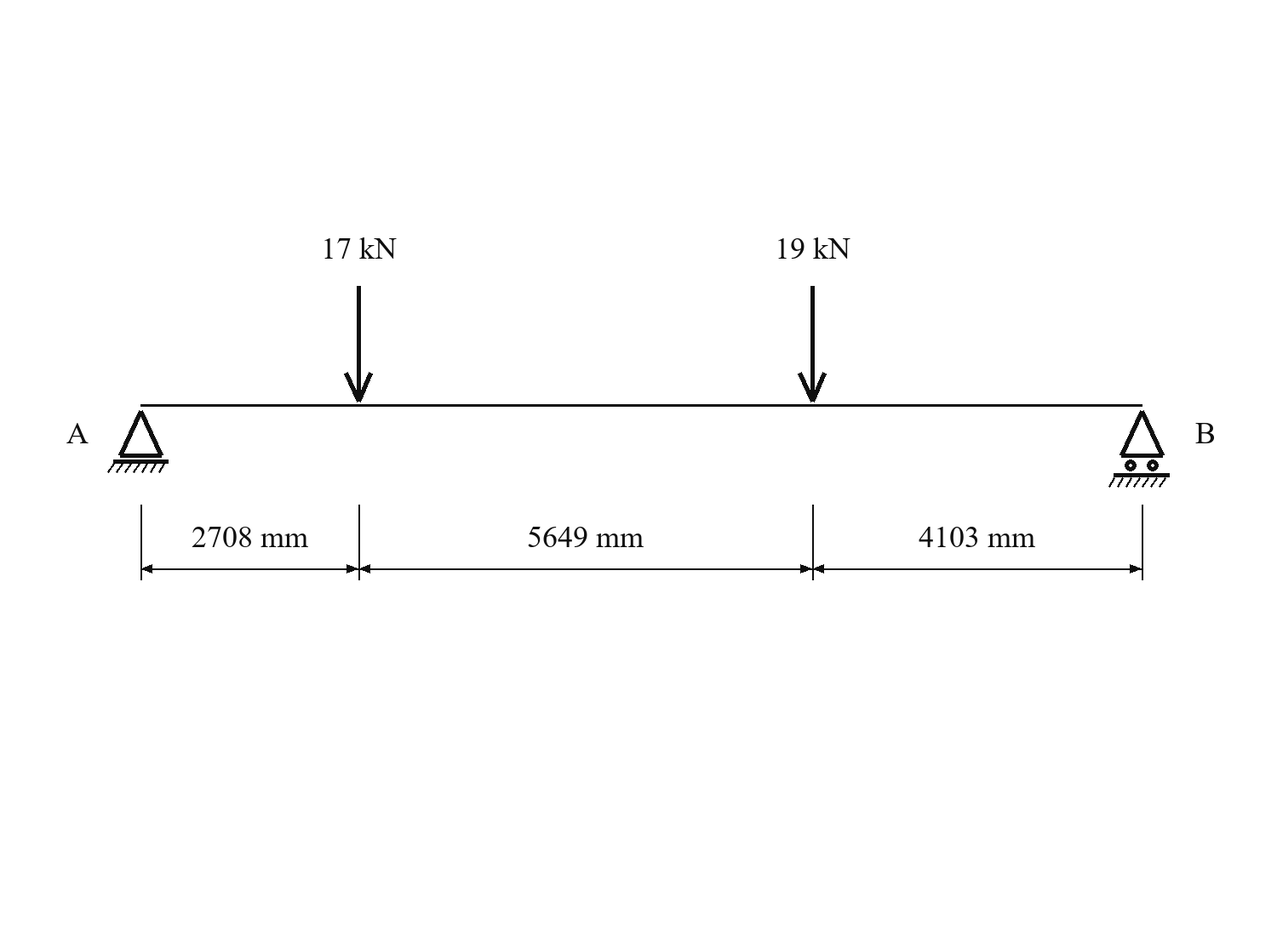pin_support: (107, 410, 169, 473)
point_load: (344, 286, 373, 402), (798, 286, 827, 402)
roller_support: (1108, 410, 1170, 488)
